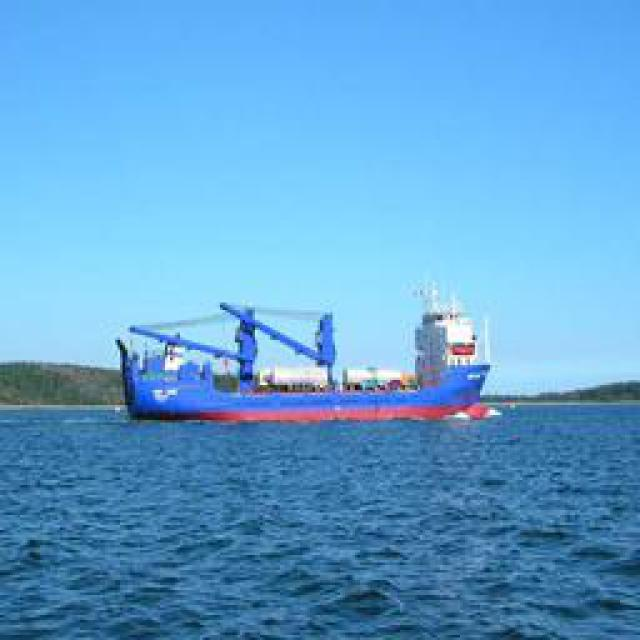Ship: (126, 289, 499, 429)
